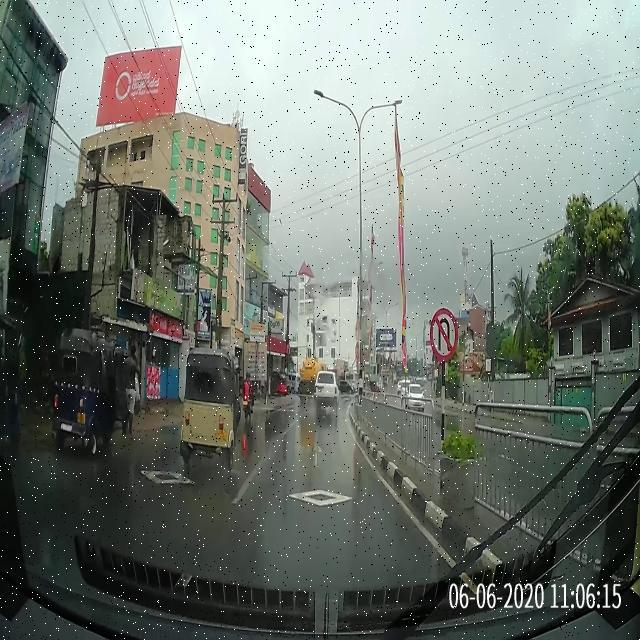diamond: (229, 484, 406, 507)
